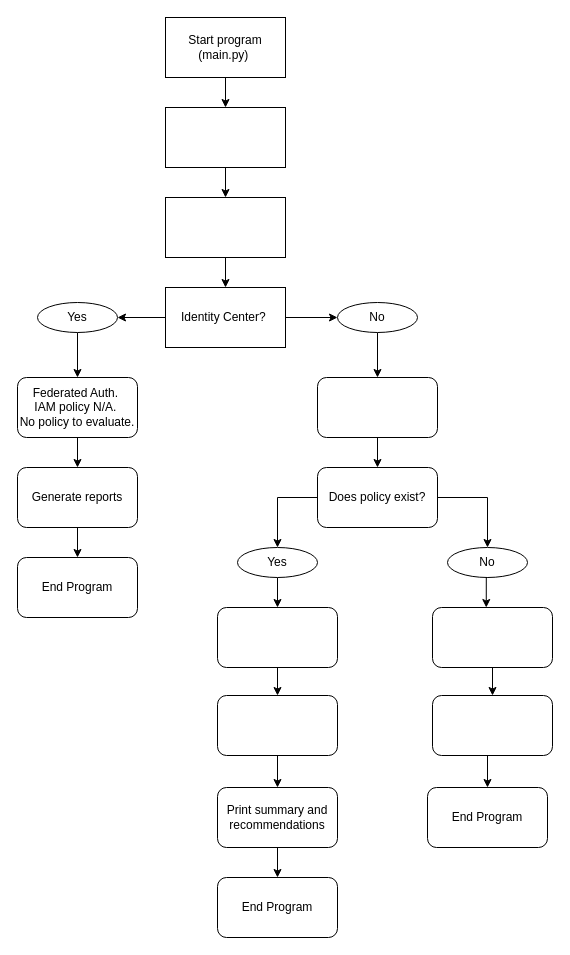
The diagram is 570 pixels wide and 955 high, and some of its shapes have lost their labels. Each missing label, with the centre of its shape:
"Check if AWS Identity Center is used" belongs at point (225, 227).
"Evaluate policy compliance" belongs at point (277, 637).
"Fetch IAM password policy" belongs at point (377, 407).
"Generate JSON/CSV reports" belongs at point (277, 725).
"Initialize AWS session" belongs at point (225, 137).
"Recommend creating policy" belongs at point (492, 725).
"Report: No IAM policy defined" belongs at point (492, 637).
